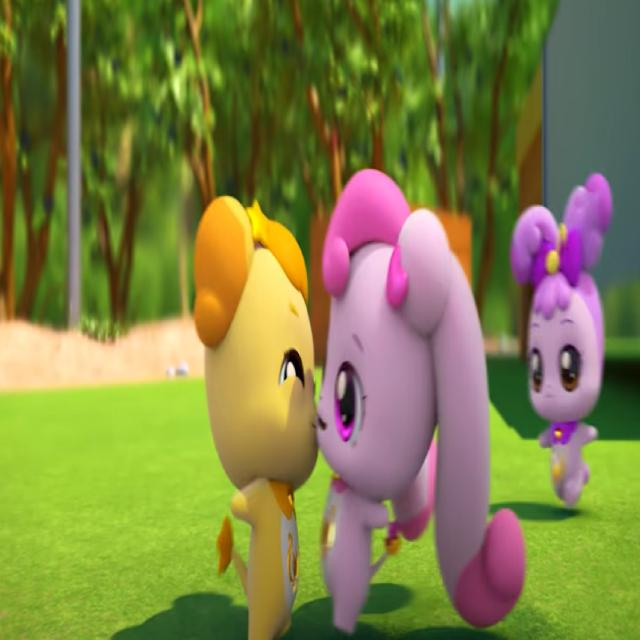Hachuping: (317, 167, 526, 636)
